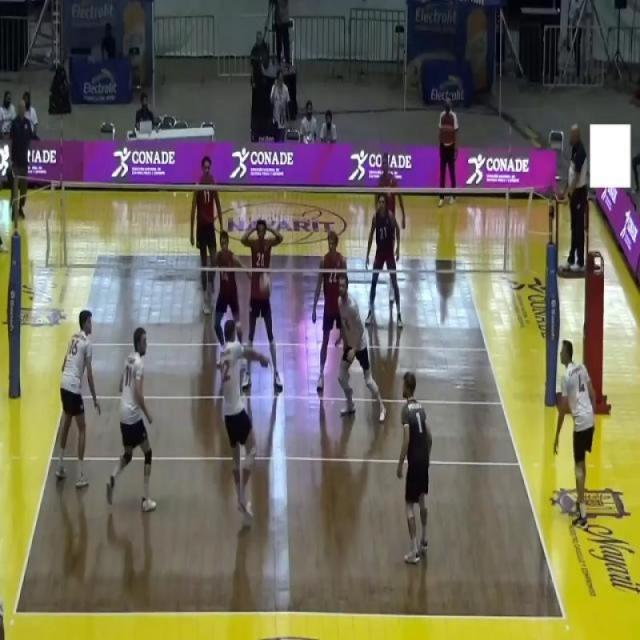volleyball: (258, 272, 272, 293)
